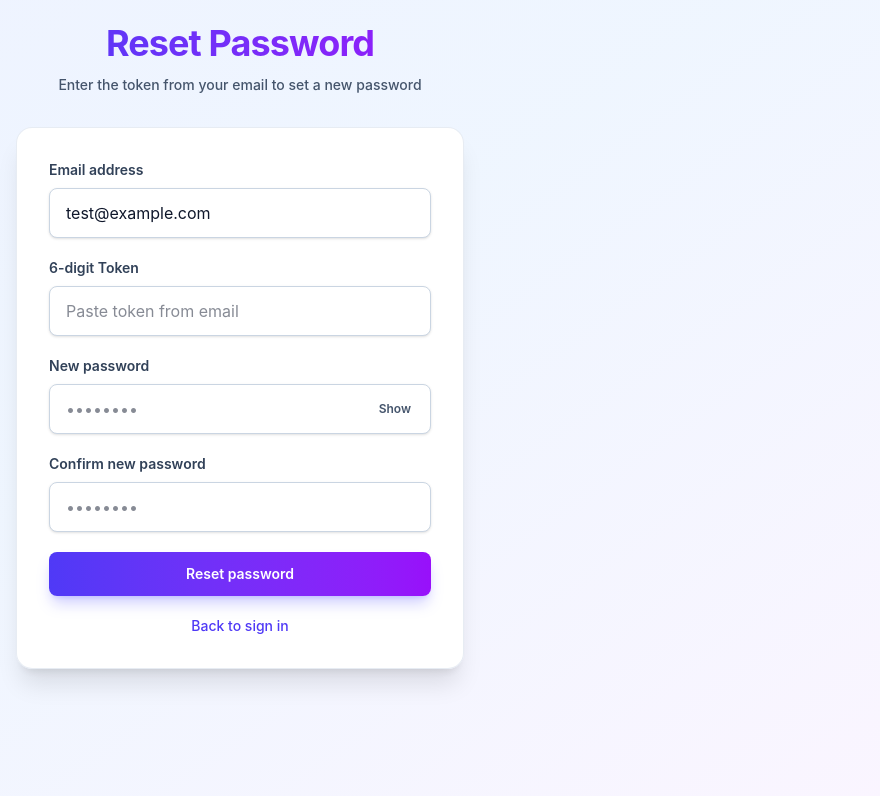
Test: ResetPasswordPage › validates 6-digit token format
The image size is (880, 796).
Type "123" into the field labelled "6-digit Token" at (240, 311), box [49,286,431,336]
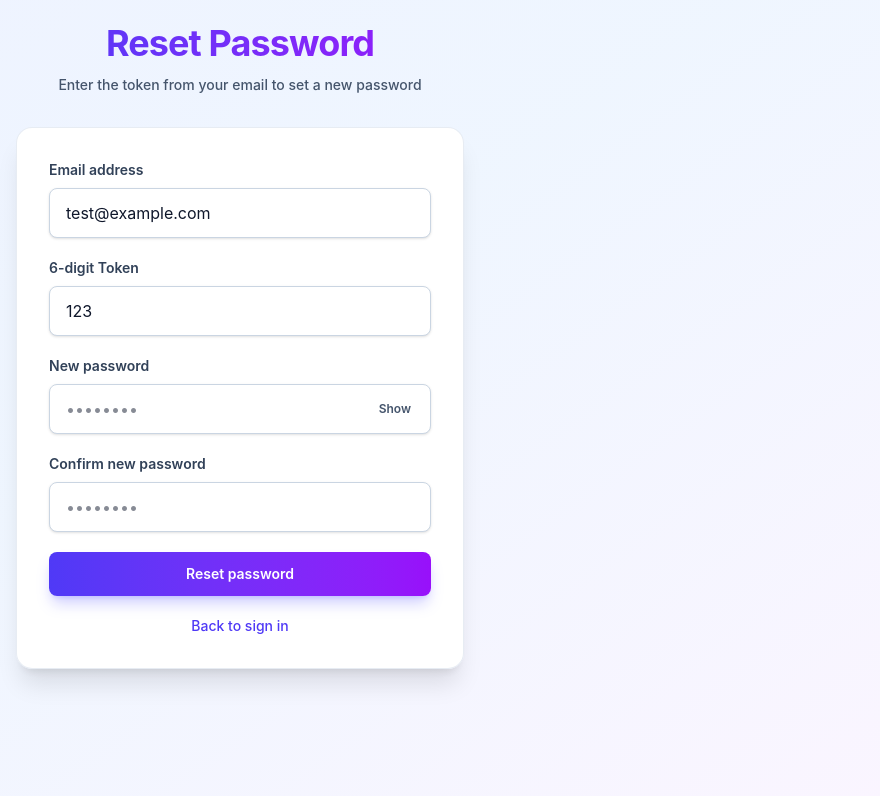
Type "password123" into the password field labelled "New password" at (240, 409), box [49,384,431,434]
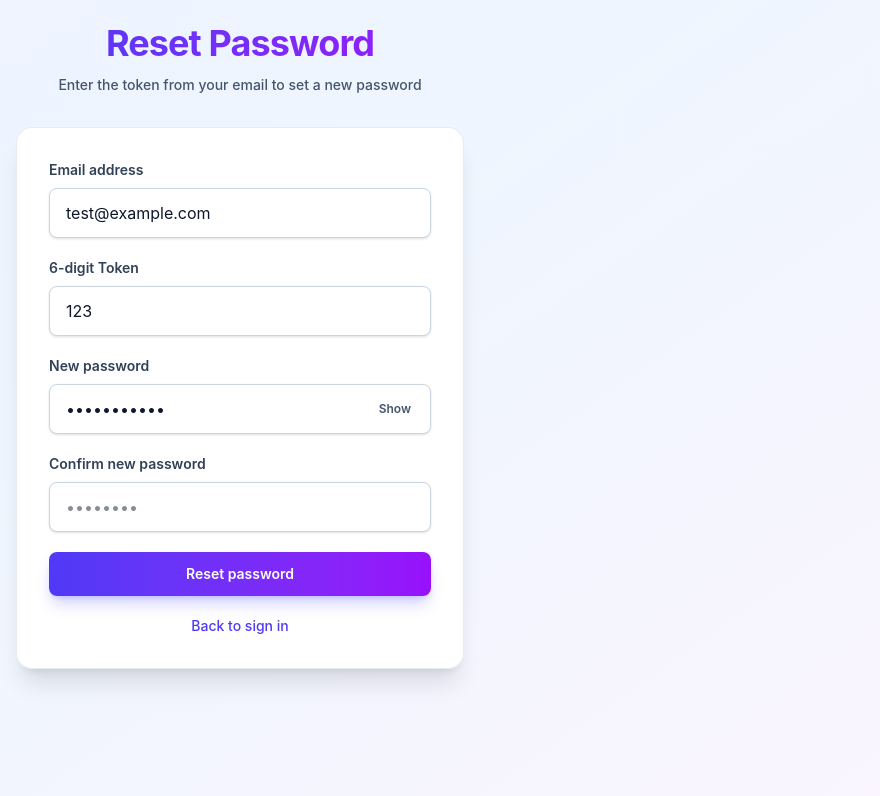
Type "password123" into the password field labelled "Confirm new password" at (240, 507), box [49,482,431,532]
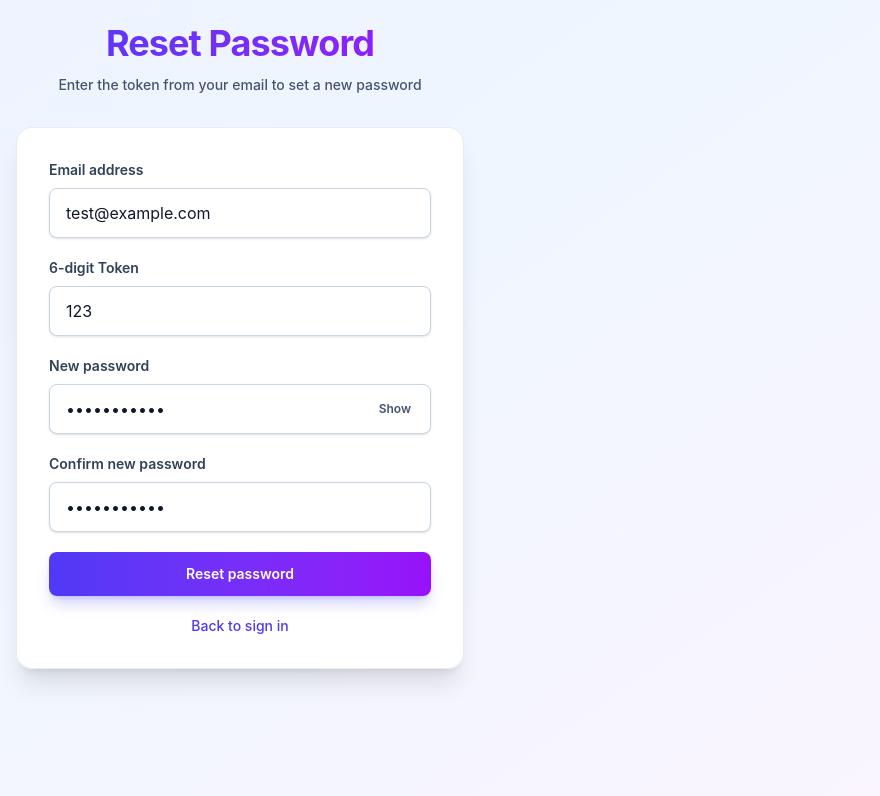
Click the button "Reset password" at (240, 574), box [49,552,431,596]
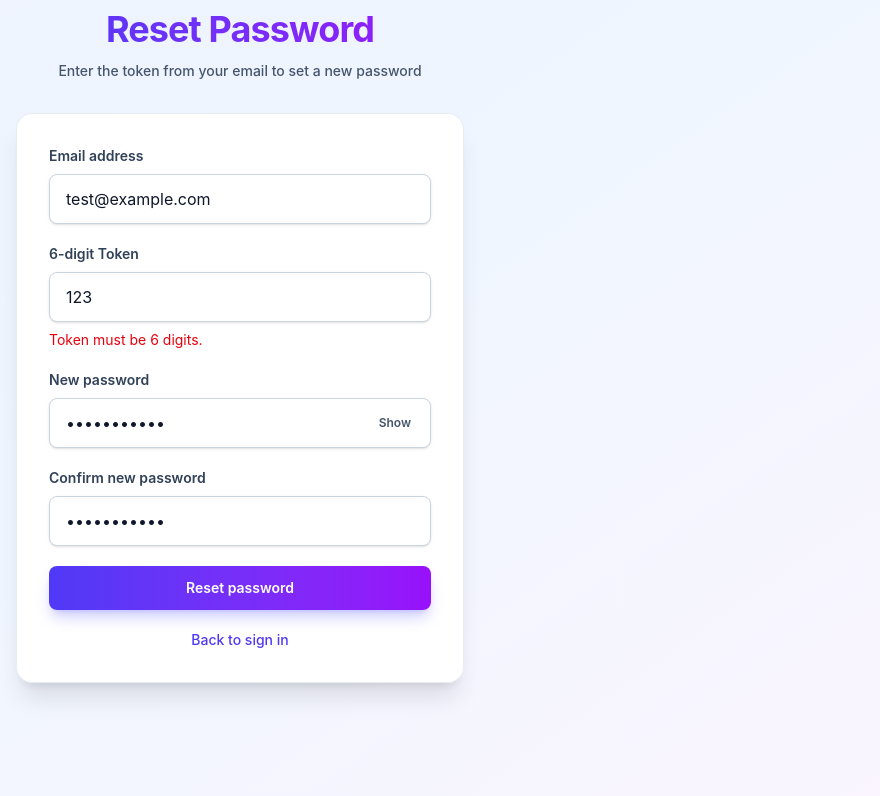
Result: the text "Token must be 6 digits." is shown at [49,331,203,348]
